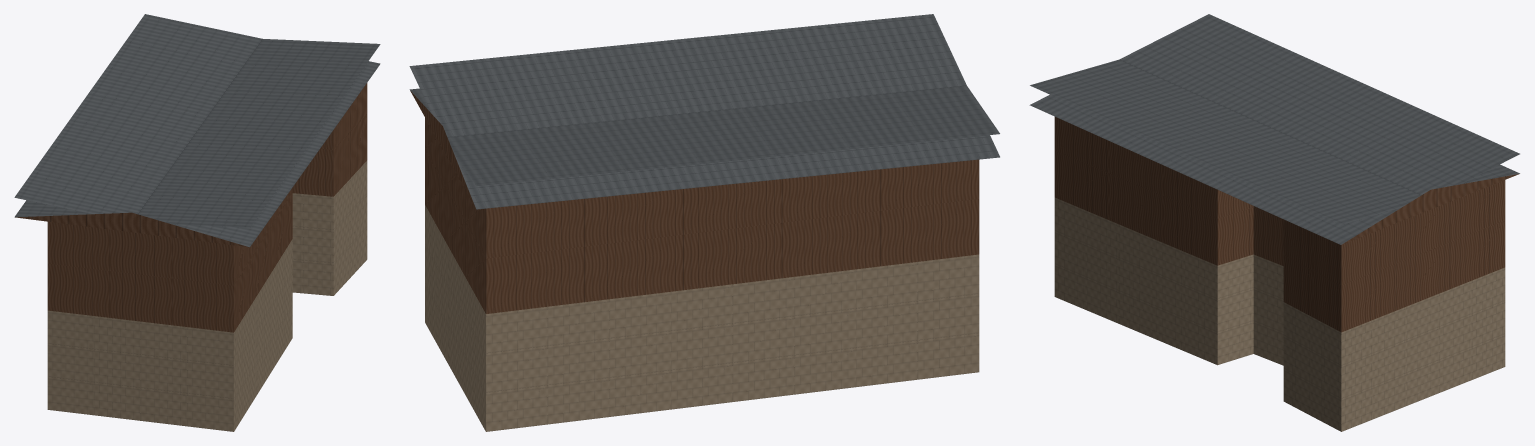
File: bld_c10_40_496.gltf
3 views of the same model, side by side, from view 1: azimuth 30°, elevation 25°; view 2: azimuth 150°, elevation 25°; view 3: azimuth 270°, elevation 25° (orthographic). The views are drawn at different scales.
Visible parts, largest first — view 1: bld_c10_40_496; view 2: bld_c10_40_496; view 3: bld_c10_40_496.
Boxes of the visible parts, bbox=[...] form: bld_c10_40_496: bbox=[14, 14, 380, 431]; bld_c10_40_496: bbox=[409, 14, 999, 431]; bld_c10_40_496: bbox=[1029, 14, 1519, 431].
Size of the model in its own units: 22.98 by 10.8 by 22.56.
Materials: 4 (4 with a texture image).
